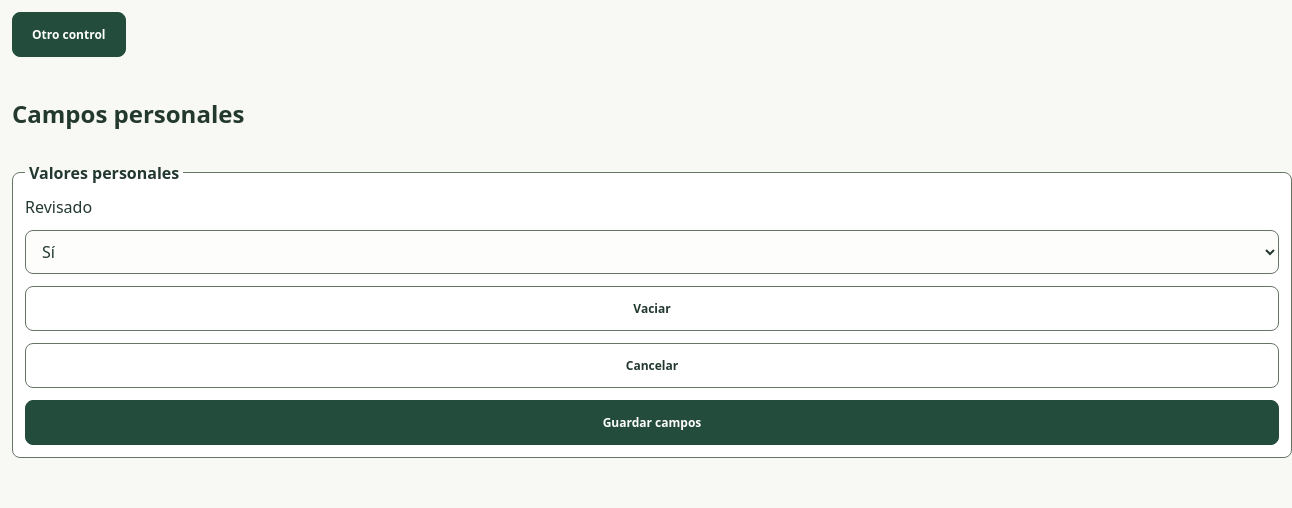
it: @s32 saves an edited false instead of coercing it to true
The width and height of the screenshot is (1292, 508).
Select "No" in the dropdown labelled "Revisado" at (652, 252), box [25,230,1279,274]
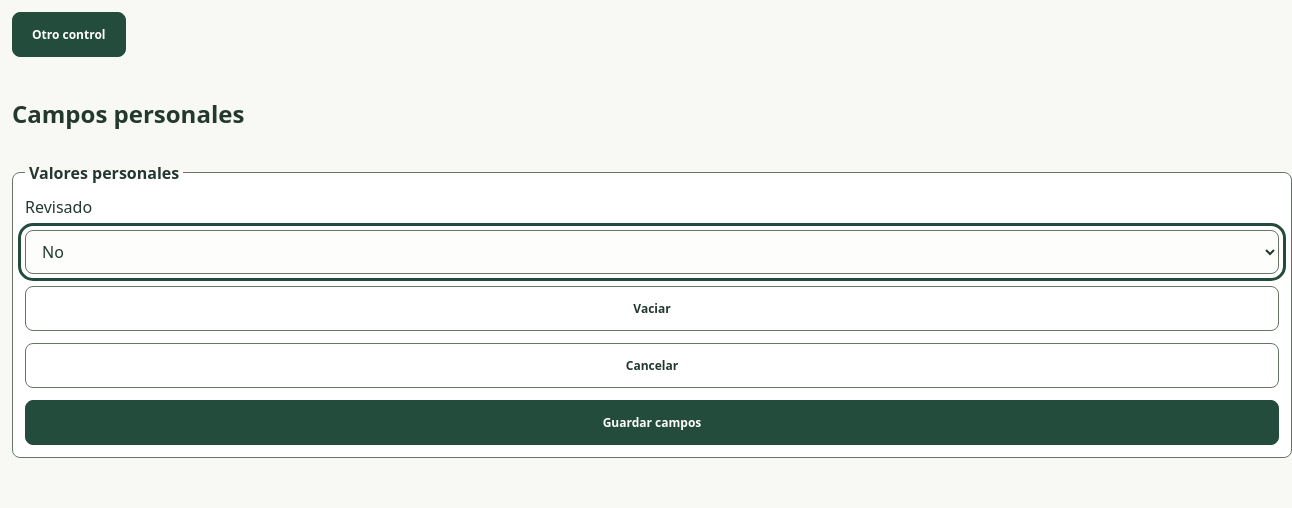
Click the button "Guardar campos" at (652, 422), box [25,400,1279,445]
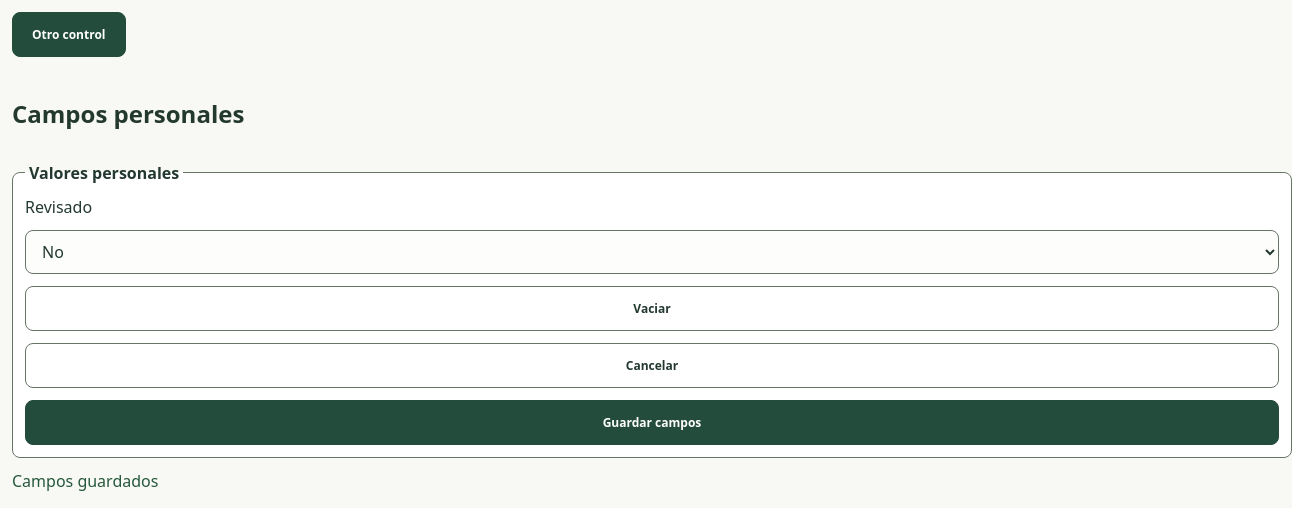
Result: the text "Campos guardados" is shown at [12,470,158,492]
